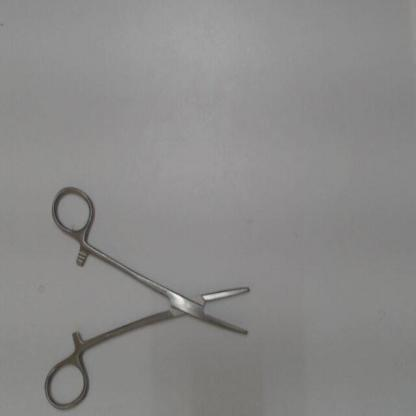Mayo Needle Holder: (40, 178, 262, 413)
